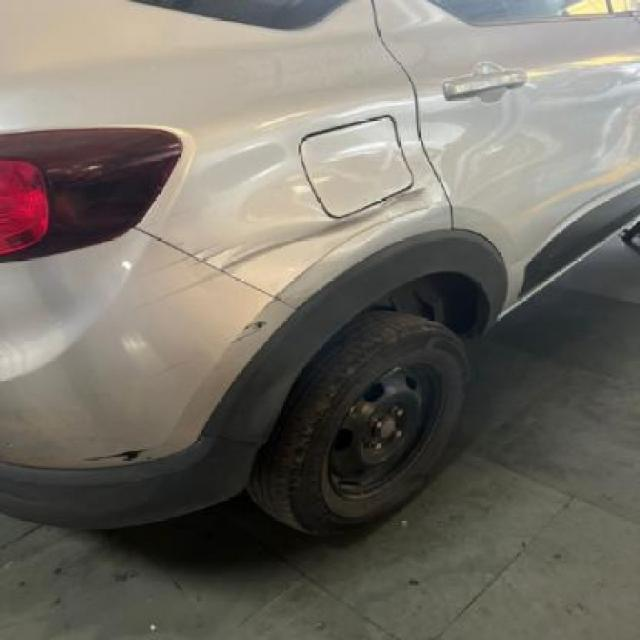minor: (82, 445, 145, 465), (238, 320, 262, 338)
moderate: (175, 242, 278, 272)
